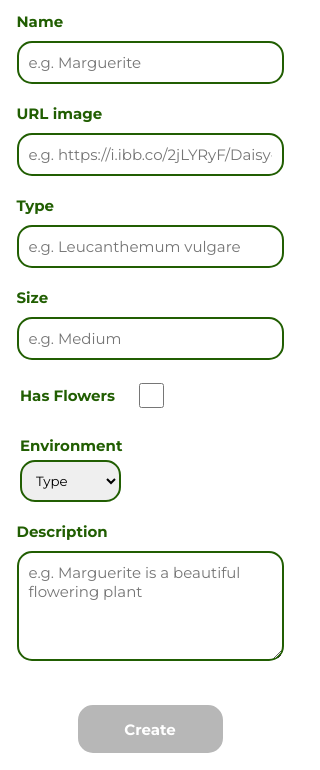
Given a AddForm component › When it's rendered and all the inputs fields are filled in › Then it should show an enabled button with the text 'Create'
The image size is (320, 770).
In the field labelled "Name": (150, 62) [16,41,284,84], type "Ficus"
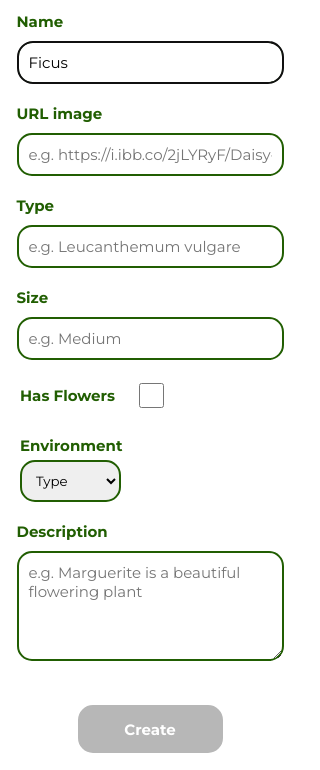
In the field labelled "URL image": (150, 154) [16,133,284,176], type "https://i.ibb.co/R6yy3nN/ficus.com"
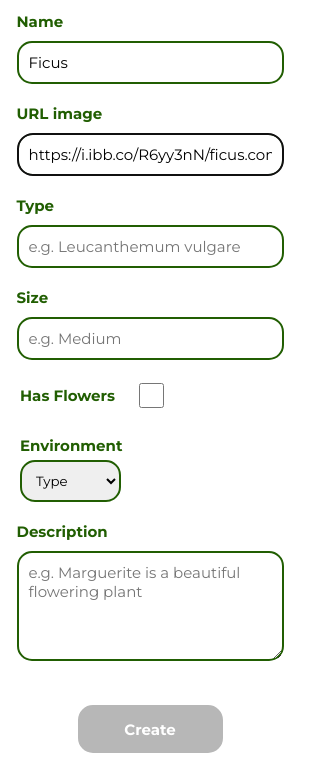
In the field labelled "Type": (150, 246) [16,225,284,268], type "Ficus"
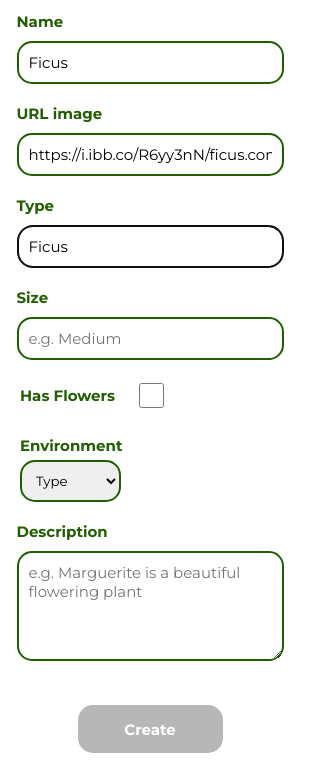
In the field labelled "Size": (150, 338) [16,317,284,360], type "large"
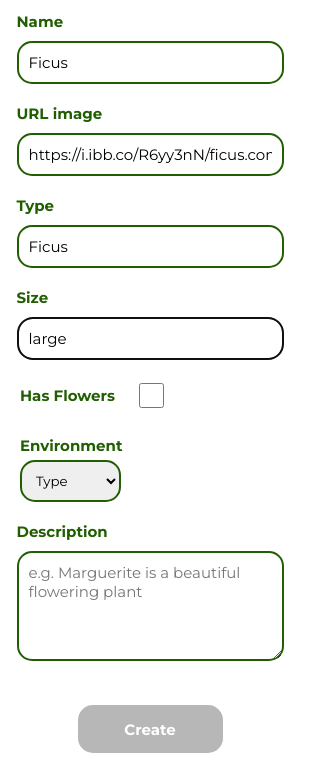
Select "Indoor" in the dropdown labelled "Environment": (70, 481) [20,460,121,502]
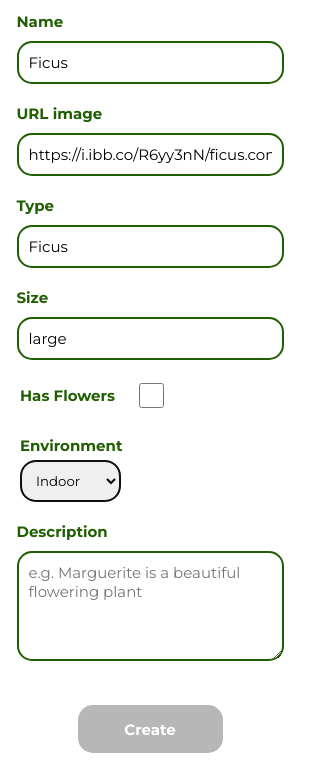
In the text box labelled "Description": (150, 606) [16,551,284,661], type "Popular indoor plant with glossy leaves that prefers bright, indirect"
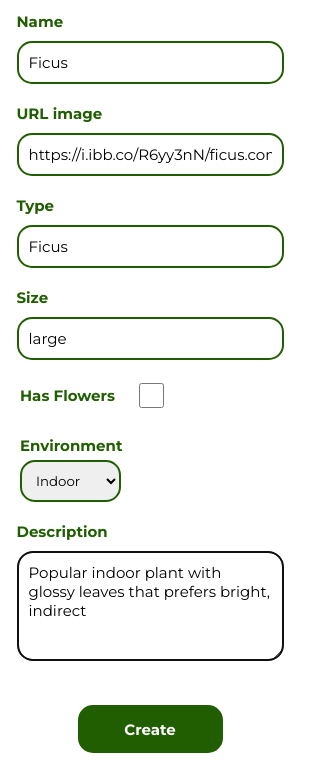
Result: the button "Create" is enabled at [78,705,222,753]
